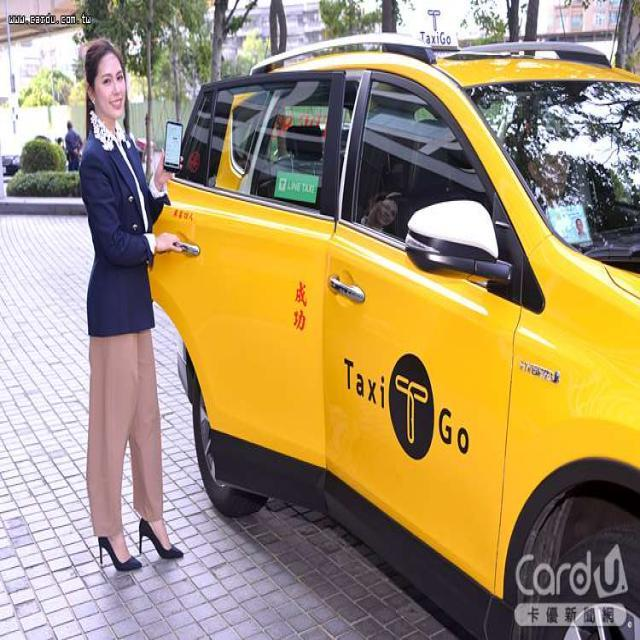taxi: (135, 30, 640, 632)
